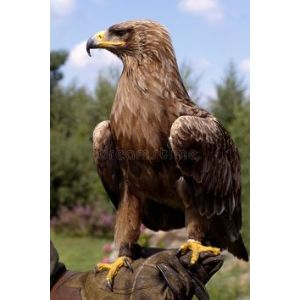eagle: (71, 18, 249, 288)
